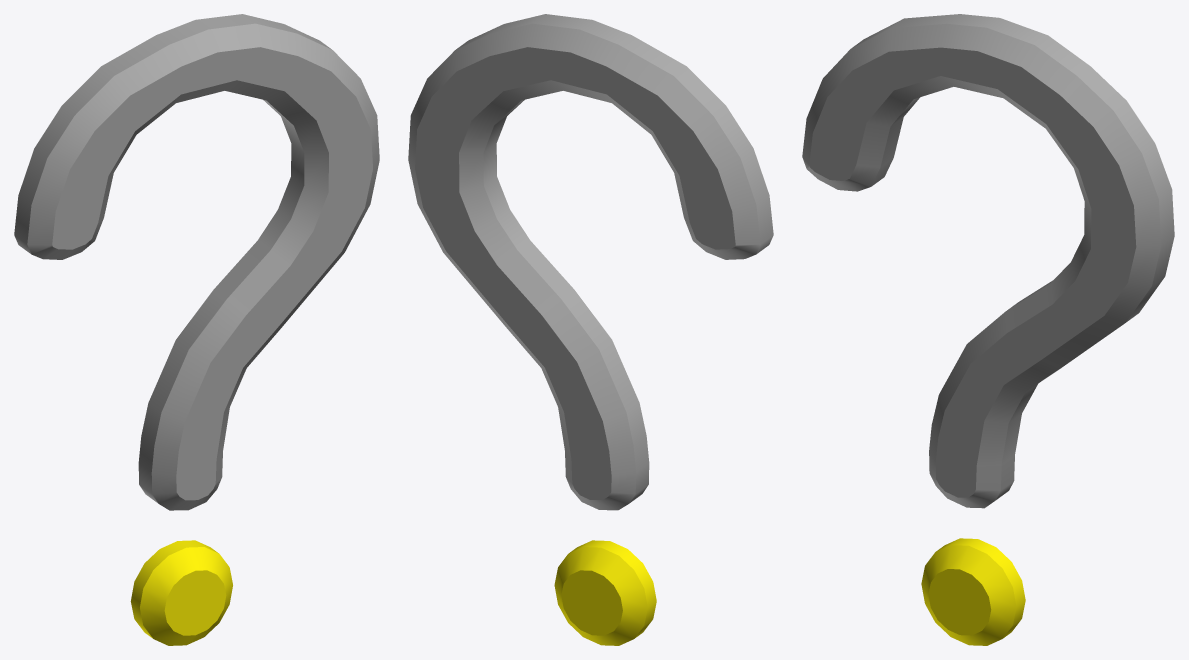
File: quest_handin.fbx
3 views of the same model, side by side, from view 1: azimuth 30°, elevation 25°; view 2: azimuth 150°, elevation 25°; view 3: azimuth 330°, elevation 25° (orthographic).
Visible parts, largest first — view 1: Trim_Char_x_1_1, mesh_1058; view 2: Trim_Char_x_1_1, mesh_1058; view 3: Trim_Char_x_1_1, mesh_1058.
Part boxes in pixels (bbox=[...]): Trim_Char_x_1_1: bbox=[14, 14, 379, 510]; mesh_1058: bbox=[130, 540, 232, 645]; Trim_Char_x_1_1: bbox=[408, 14, 773, 510]; mesh_1058: bbox=[554, 540, 656, 645]; Trim_Char_x_1_1: bbox=[802, 14, 1174, 508]; mesh_1058: bbox=[921, 538, 1025, 645].
Size of the model in its own units: 10.83 by 17.98 by 1.65.
Materials: 2 (1 with a texture image).
